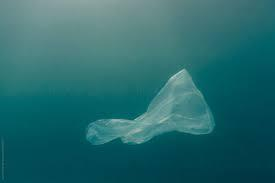Trash: (69, 63, 222, 168)
